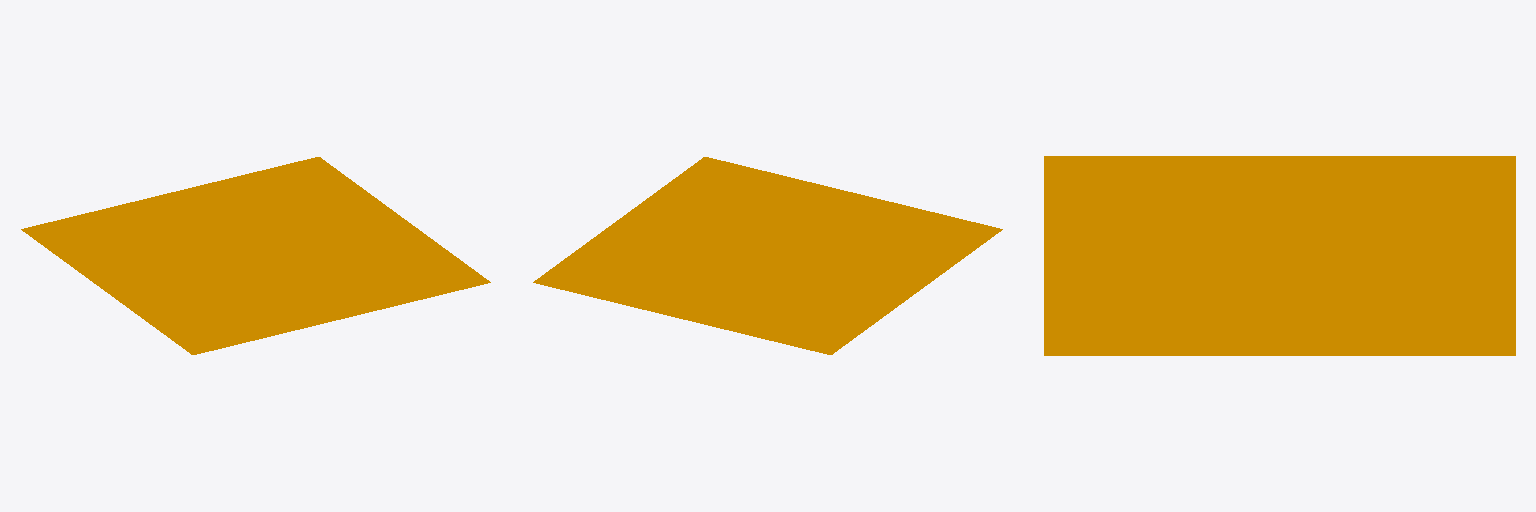
robot.urdf — ARtag:
<robot name="ARtag">
  <link name="ARtag">
    <inertial>
      <origin xyz="0 0 0" /> 
      <mass value="0.1" />
      <inertia  ixx="1.0" ixy="0.0"  ixz="0.0"  iyy="1.0"  iyz="0.0"  izz="1.0" />
    </inertial>
    <visual>
      <origin xyz="0 0 0" rpy="0 0 0"/>
      <geometry>
        <box size="0.2 0.2 0" />

      </geometry>
    </visual>
    <collision>
      <origin xyz="0 0 0" rpy="0 0 0"/>
      <geometry>
        <box size="0.2 0.2 0.001" />
      </geometry>
    </collision>
  </link>
  <gazebo reference="ARtag">
    <material>elective/pippo</material>
    <turnGravityOff>false</turnGravityOff>
    <static>true</static>
  </gazebo>
</robot>

--- Render facts (derived) ---
The picture shows the robot from 3 angles, left to right: view 1: azimuth 30°, elevation 25°; view 2: azimuth 150°, elevation 25°; view 3: azimuth 270°, elevation 25°; orthographic projection.
Model ARtag with 1 links and 0 joints (none), rooted at ARtag, posed every joint at zero.
Links seen in each view (by area): view 1: ARtag; view 2: ARtag; view 3: ARtag.
Link boxes in pixels (x1,y1,x2,y2): ARtag: (21,157,490,354); ARtag: (533,157,1002,354); ARtag: (1044,156,1515,355).
Bounding box of the posed robot: 0.2 × 0.2 × 0 m (x, y, z).
Geometry: primitives only (box / cylinder / sphere), no mesh files.
